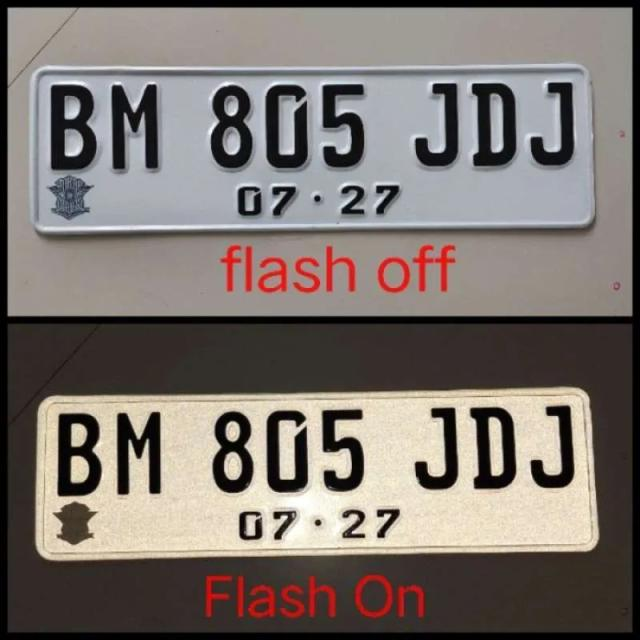license-plat: (19, 20, 614, 248), (15, 354, 610, 566)
